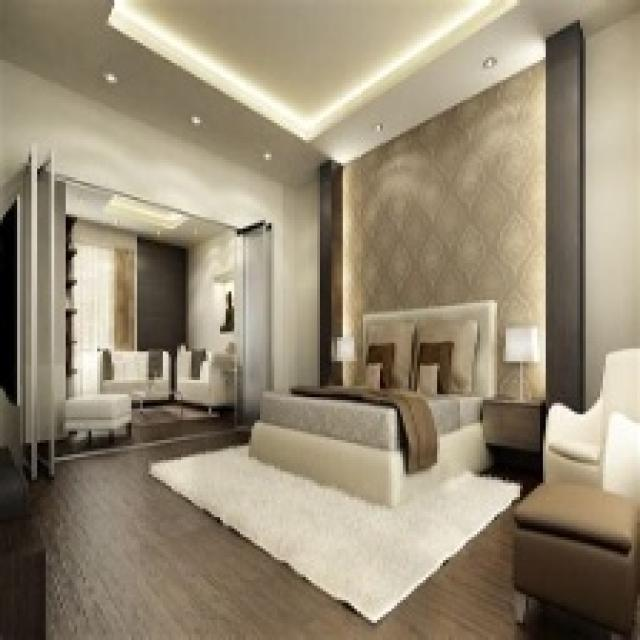Bed: (246, 297, 497, 506)
